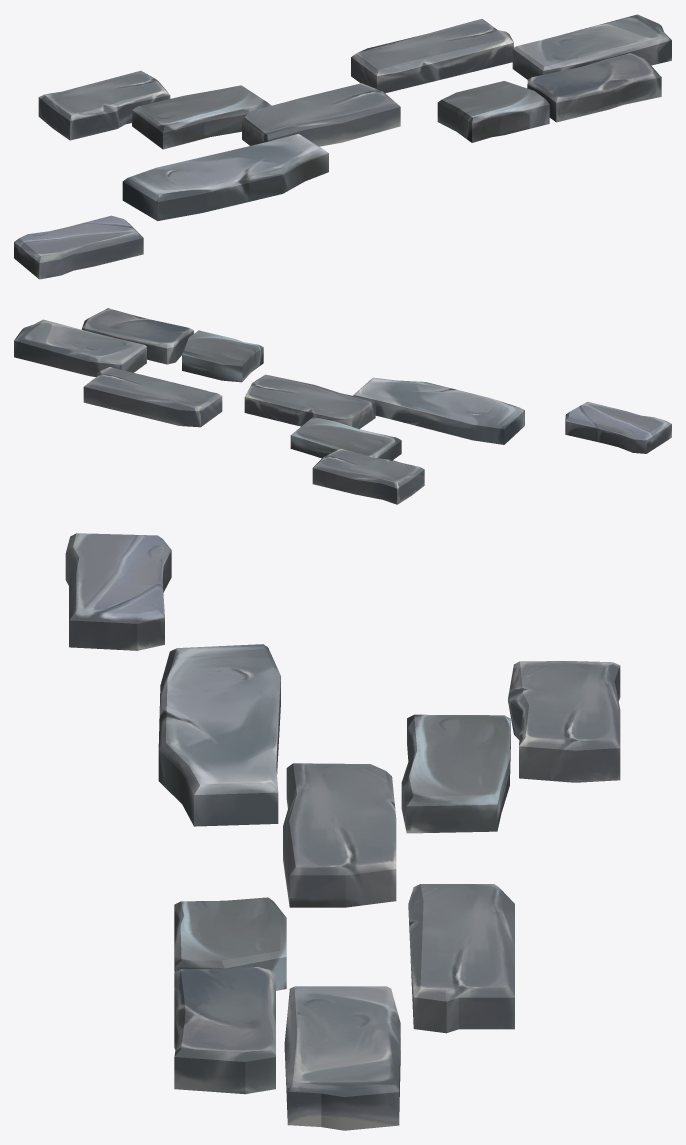
Rendered from dimian05.fbx.
The picture shows the model from 3 angles, top to bottom: view 1: azimuth 30°, elevation 25°; view 2: azimuth 150°, elevation 25°; view 3: azimuth 270°, elevation 25°; orthographic projection. The views are drawn at different scales.
Visible parts, largest first — view 1: DIMI005; view 2: DIMI005; view 3: DIMI005.
Part boxes in pixels (left/top/right/bottom): DIMI005: left=14, top=14, right=671, bottom=279; DIMI005: left=14, top=308, right=671, bottom=504; DIMI005: left=65, top=533, right=620, bottom=1130.
Bounding box in the file's own units: 403 × 12.56 × 167.
1 material, 1 textured.
